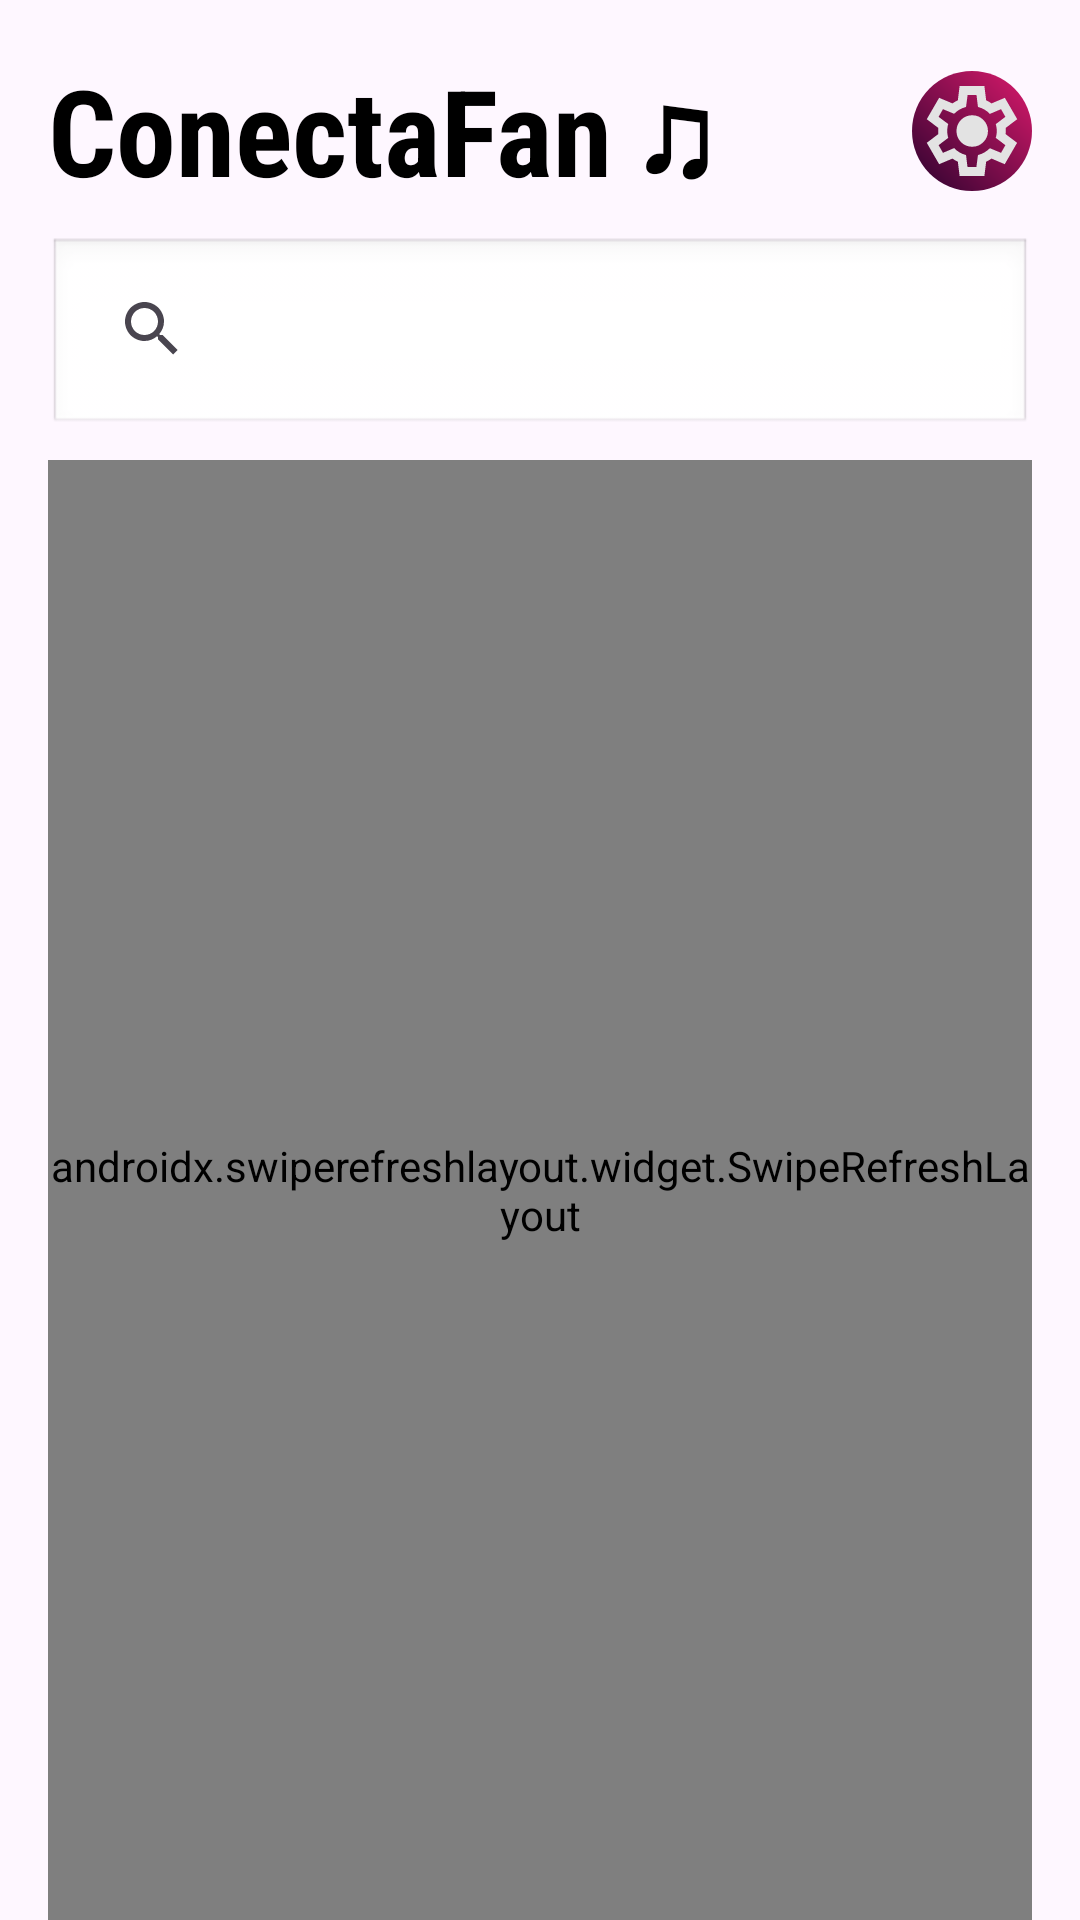

Named icons in this screenshot (1080×1920) and their centers, (x=x, y=y):
Opciones del Dashboard: (x=972, y=131)
